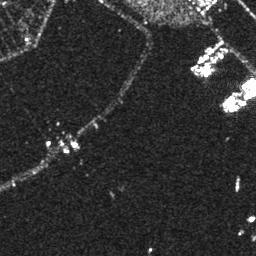ship: (222, 95, 236, 107), (71, 137, 81, 152), (233, 176, 242, 192), (197, 54, 209, 64), (61, 141, 69, 154), (247, 213, 256, 224), (205, 68, 214, 78)
